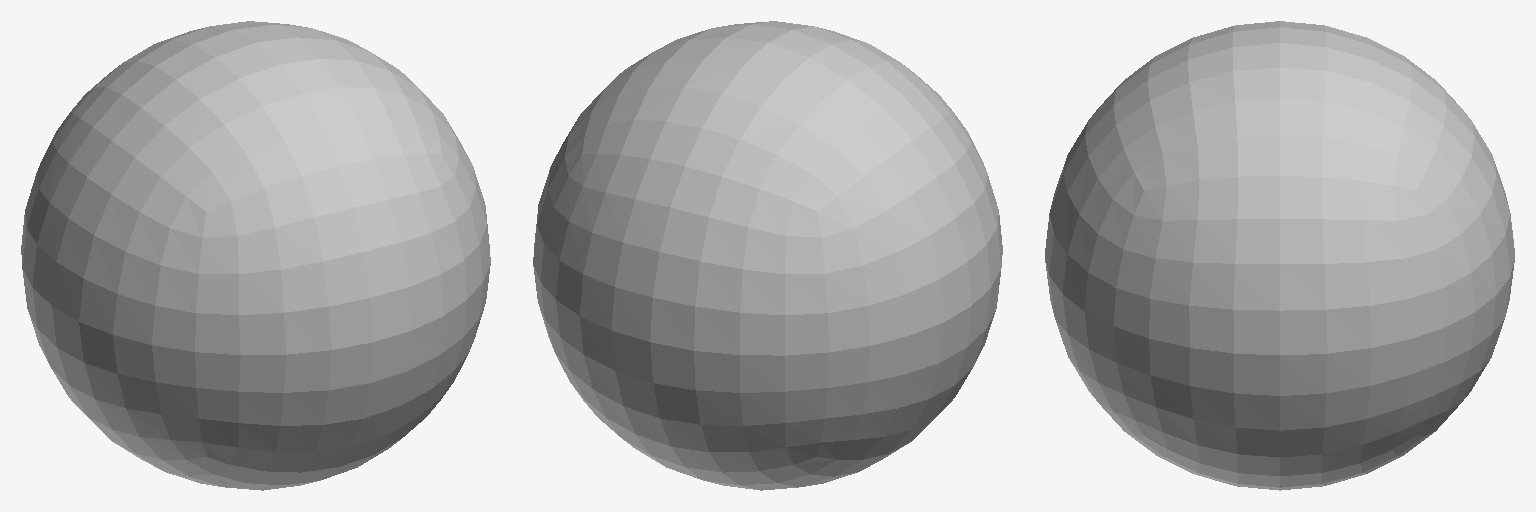
The model's file is Moon.obj.
The picture shows the model from 3 angles: view 1: azimuth 30°, elevation 25°; view 2: azimuth 150°, elevation 25°; view 3: azimuth 270°, elevation 25°; orthographic projection.
Parts seen in each view (by area): view 1: Sphere; view 2: Sphere; view 3: Sphere.
Boxes of the visible parts, box(x1,y1,x2,y2) form: Sphere: box(21, 21, 490, 490); Sphere: box(533, 21, 1002, 490); Sphere: box(1045, 21, 1514, 490).
Bounding box in the file's own units: 0.27 × 0.27 × 0.27.